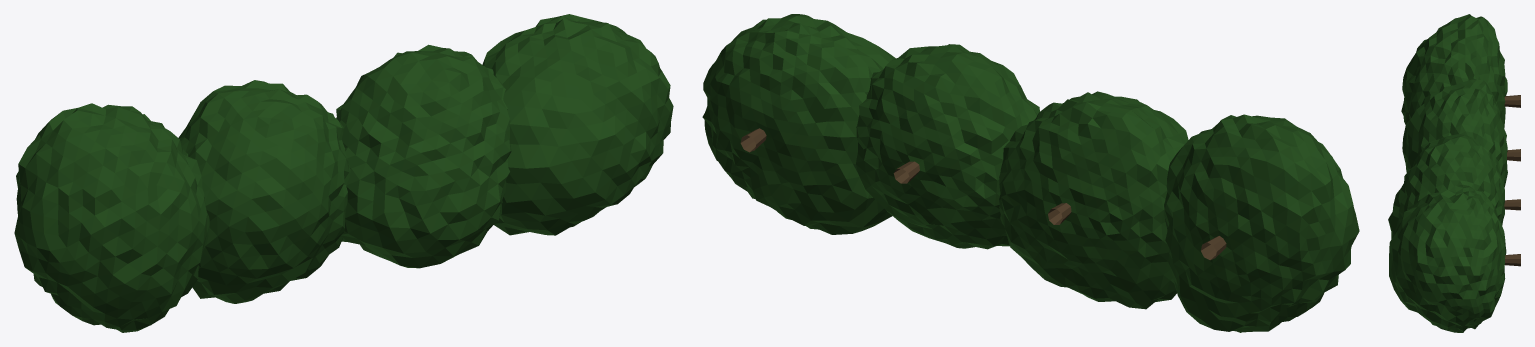
File: citrus_run4_d.obj
3 views of the same model, side by side, from view 1: azimuth 30°, elevation 25°; view 2: azimuth 150°, elevation 25°; view 3: azimuth 270°, elevation 25° (orthographic). The views are drawn at different scales.
Visible parts, largest first — view 1: canopy; view 2: canopy, trunk; view 3: canopy, trunk.
Boxes of the visible parts, x1,y1,x2,y2 form: canopy: [14, 14, 673, 332]; canopy: [702, 14, 1359, 332]; trunk: [740, 128, 1226, 260]; canopy: [1388, 14, 1507, 332]; trunk: [1504, 95, 1520, 266].
Bounding box in the file's own units: 12.56 × 4.13 × 3.25.
